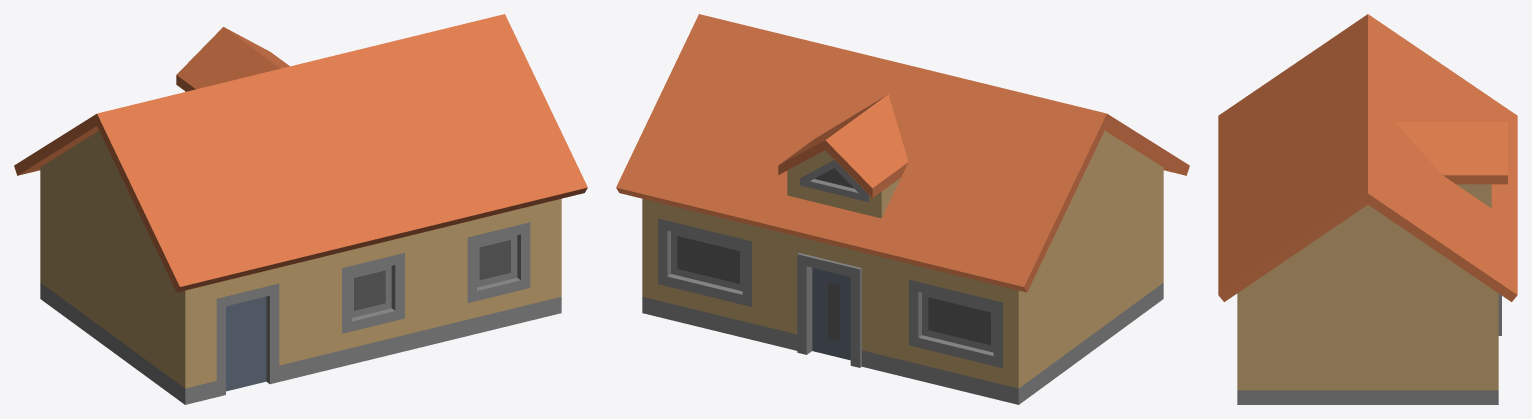
The model's file is SM_Suburb_House_06.fbx.
The picture shows the model from 3 angles, left to right: view 1: azimuth 30°, elevation 25°; view 2: azimuth 150°, elevation 25°; view 3: azimuth 270°, elevation 25°; orthographic projection. The views are drawn at different scales.
Visible parts, largest first — view 1: SM_Suburb_House_06; view 2: SM_Suburb_House_06; view 3: SM_Suburb_House_06.
Boxes of the visible parts, x1,y1,x2,y2 form: SM_Suburb_House_06: (14, 14, 587, 404); SM_Suburb_House_06: (616, 14, 1189, 404); SM_Suburb_House_06: (1218, 14, 1517, 404).
Bounding box in the file's own units: 936 × 531 × 660.
